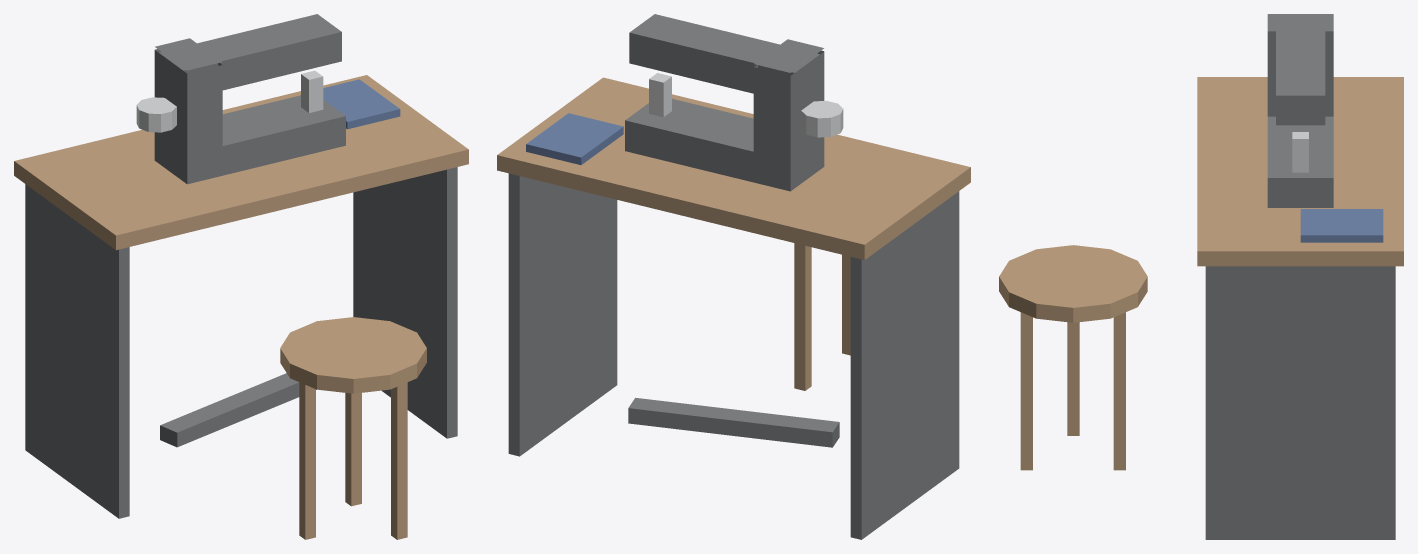
File: Sewing_Table.fbx
The picture shows the model from 3 angles, left to right: view 1: azimuth 30°, elevation 25°; view 2: azimuth 150°, elevation 25°; view 3: azimuth 270°, elevation 25°; orthographic projection. The views are drawn at different scales.
Parts seen in each view (by area): view 1: Sewing_Table; view 2: Sewing_Table; view 3: Sewing_Table.
Boxes of the visible parts, x1,y1,x2,y2 form: Sewing_Table: [14, 14, 468, 539]; Sewing_Table: [497, 14, 970, 539]; Sewing_Table: [999, 14, 1403, 539].
Size of the model in its own units: 1 by 1.09 by 0.98.
